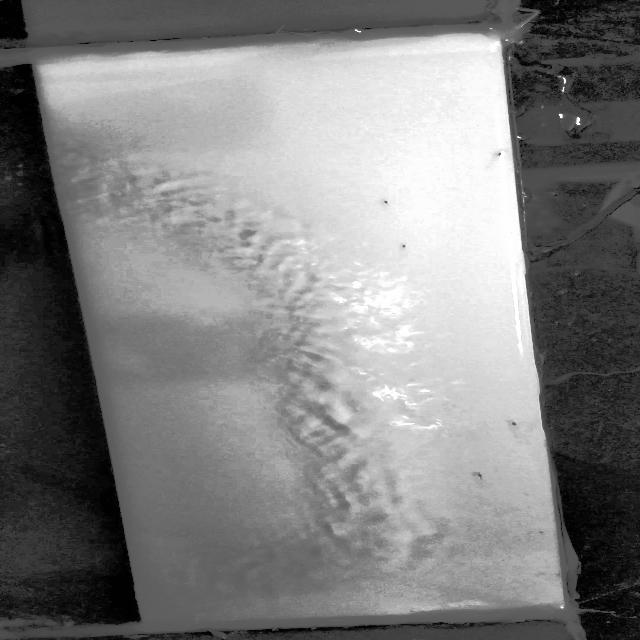shrimp: (379, 197, 404, 212), (489, 148, 506, 162), (396, 243, 415, 252), (508, 422, 524, 432), (472, 472, 487, 481), (532, 529, 547, 537)
